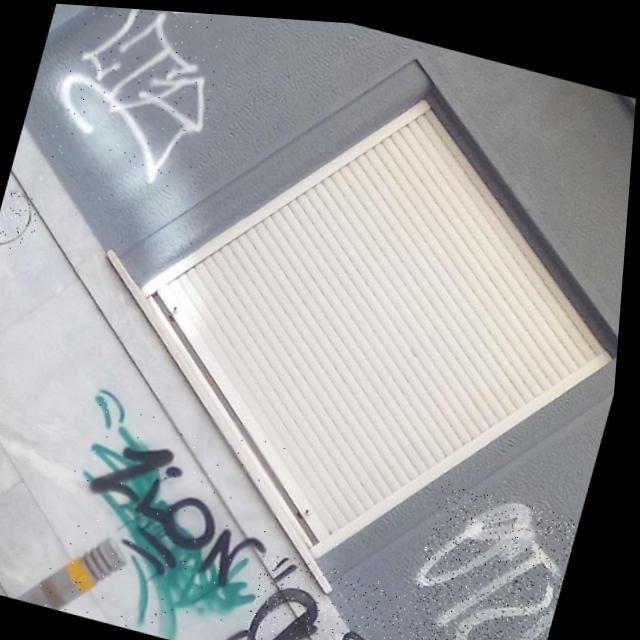-: (42, 381, 306, 640), (41, 2, 239, 192), (81, 428, 293, 597), (402, 474, 588, 640), (202, 534, 430, 640), (0, 189, 47, 254)
